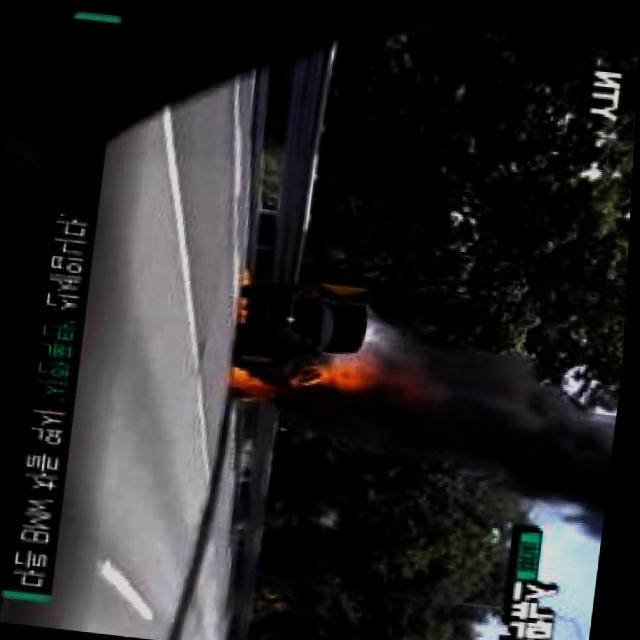helmet: (234, 359, 284, 399), (316, 354, 367, 390)
no_helmet: (405, 327, 627, 531)
